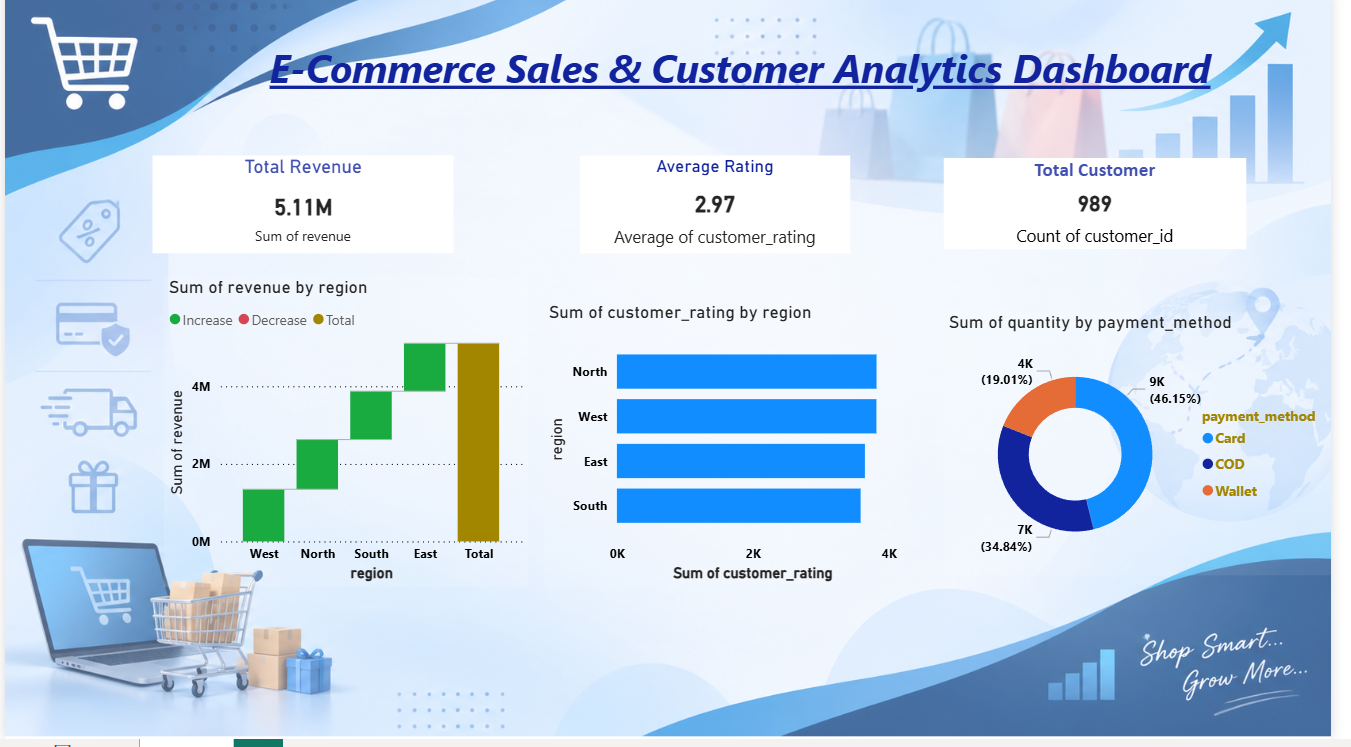

The dashboard page shown, as its layout file describes it:
{"tool":"powerbi","page":{"name":"Page 1","canvas":[1280,720],"ordinal":0},"visuals":[{"type":"textbox","box":[138.7,42.2,1141.3,80.8],"z":0},{"type":"donutChart","fields":{"Category":["newdashboards.payment_method"],"Y":["Sum(newdashboards.quantity)"]},"box":[906,307.6,374,254.6],"z":1000},{"type":"waterfallChart","fields":{"Category":["newdashboards.region"],"Y":["Sum(newdashboards.revenue)"]},"box":[153.2,273.9,351.1,299.2],"z":2000},{"type":"barChart","fields":{"Y":["Sum(newdashboards.customer_rating)"],"Category":["newdashboards.region"]},"box":[520,298,346.2,275.1],"z":3000},{"type":"card","title":"Total Revenue","fields":{"Values":["Sum(newdashboards.revenue)"]},"box":[142.4,156.8,290.8,94.1],"z":4000},{"type":"card","title":"Average Rating","fields":{"Values":["Avg(newdashboards.customer_rating)"]},"box":[555,156.8,260.6,94.1],"z":5000},{"type":"card","title":"Total Customer","fields":{"Values":["Count(newdashboards.customer_id)"]},"box":[906,159.3,292,88.1],"z":6000}]}

Visuals, with their boxes in screenshot pixels (x1, y1, x2, y2), scaled from the page's 1280x720 canvas onto the 1351x747 screenshot:
textbox: bbox(146, 44, 1350, 128)
donutChart - newdashboards.payment_method x Sum(newdashboards.quantity): bbox(956, 319, 1350, 583)
waterfallChart - newdashboards.region x Sum(newdashboards.revenue): bbox(162, 284, 532, 595)
barChart - Sum(newdashboards.customer_rating) x newdashboards.region: bbox(549, 309, 914, 595)
"Total Revenue" card: bbox(150, 163, 457, 260)
"Average Rating" card: bbox(586, 163, 861, 260)
"Total Customer" card: bbox(956, 165, 1264, 257)
